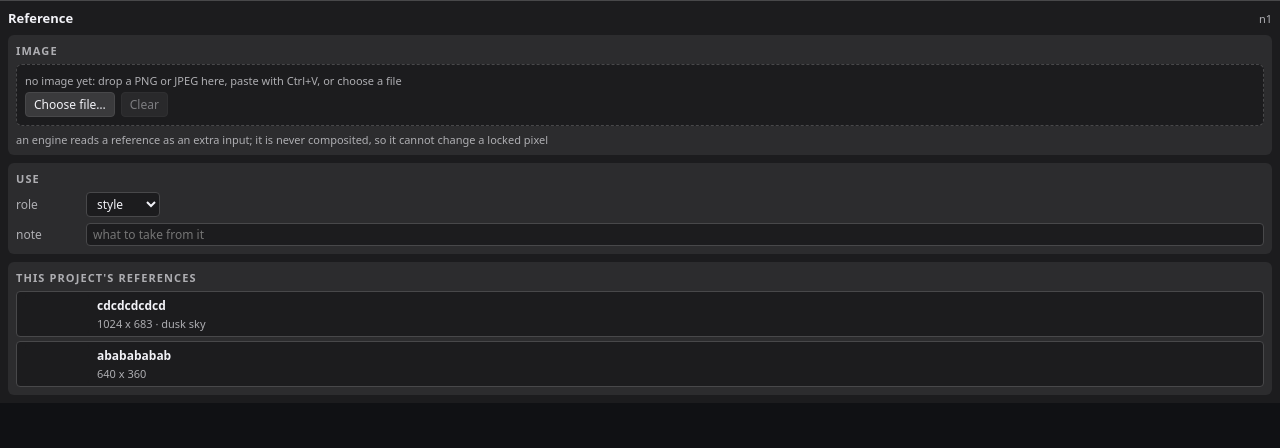
Scenario: ReferenceEditor › writes role and note, picks one of the project's references, and clears the image
Expected: the list with test id "reference-list" is shown, [16,291,1264,387]
Select "sky" in the dropdown with test id "reference-role" at (123, 204), box [86,192,160,217]
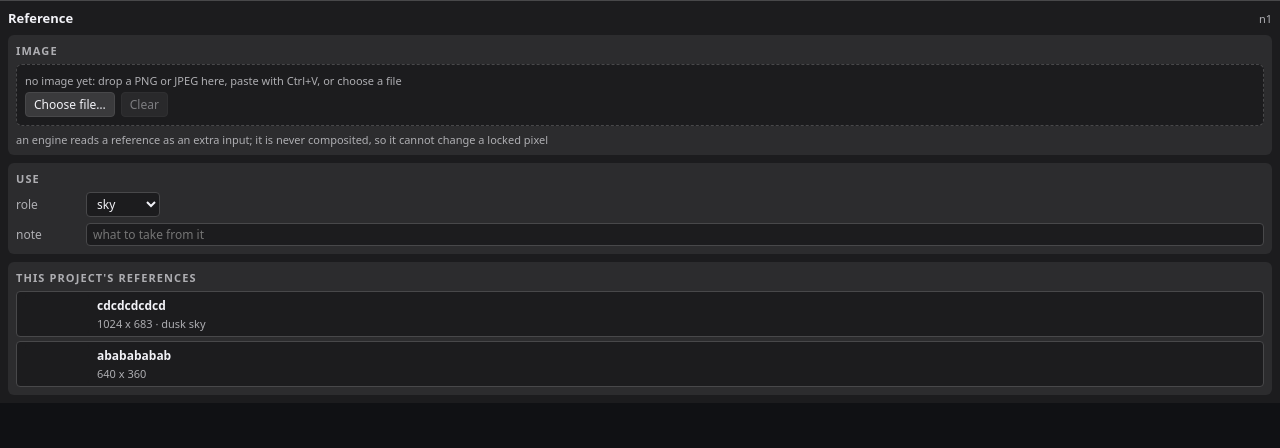
Type "take the cloud shape" into the field with test id "reference-note" at (675, 234), box [86,223,1264,246]
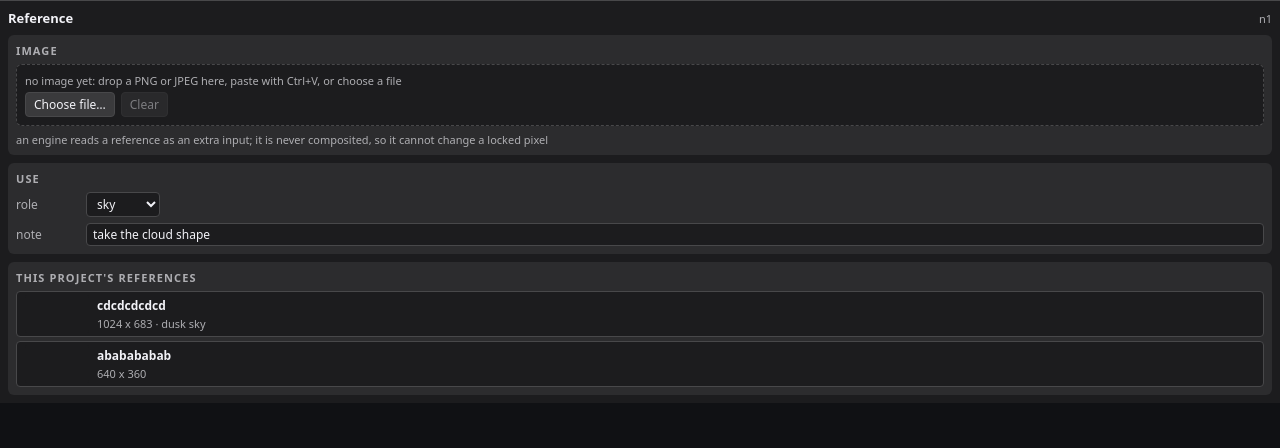
Clear the field with test id "reference-note" at (675, 234), box [86,223,1264,246]
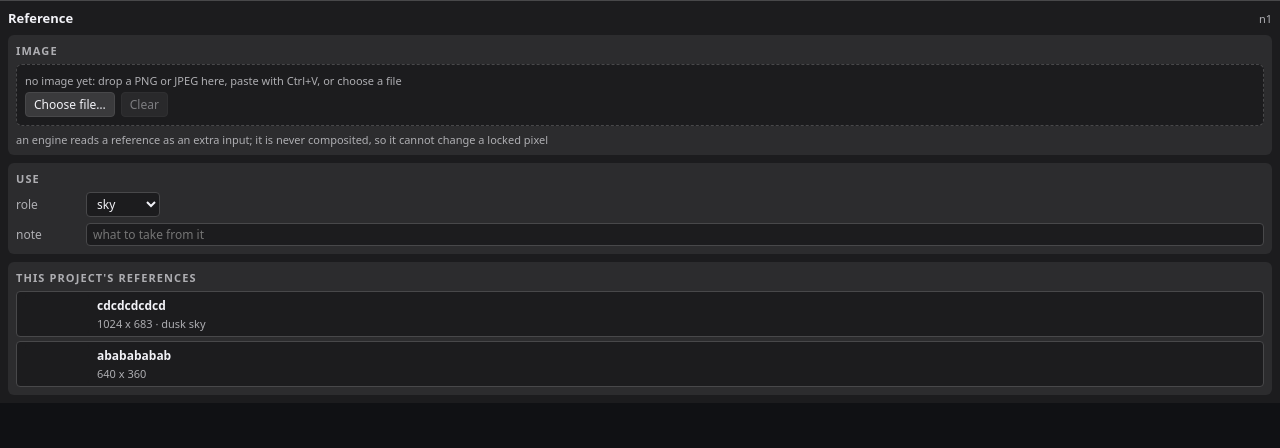
Click the button with test id "reference-pick-cdcdcdcd" at (57, 314), box [16,291,1264,337]
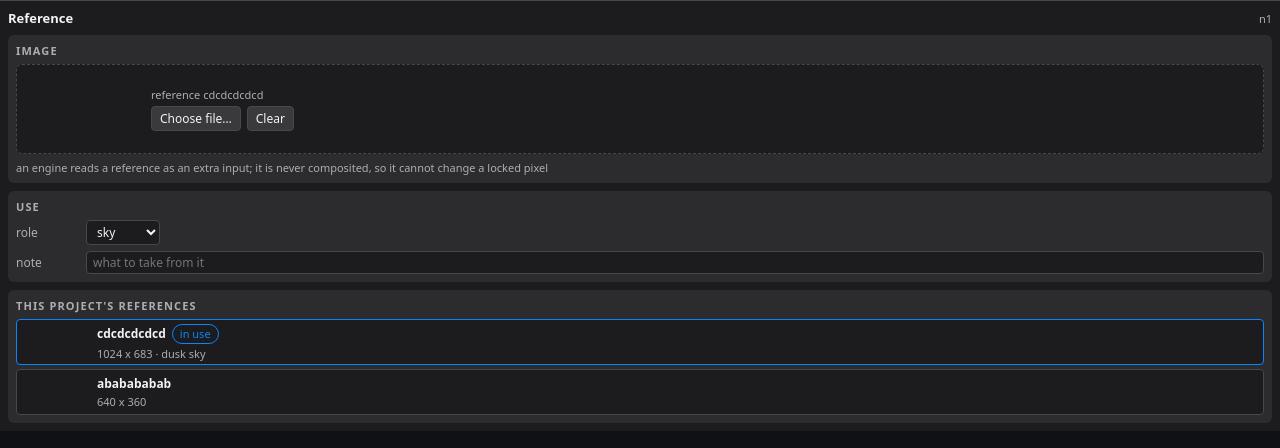
Result: the text with test id "reference-hash" reads "reference cdcdcdcdcd" at [151,87,263,102]
Click the button with test id "reference-clear" at (270, 118), box [247,106,294,131]
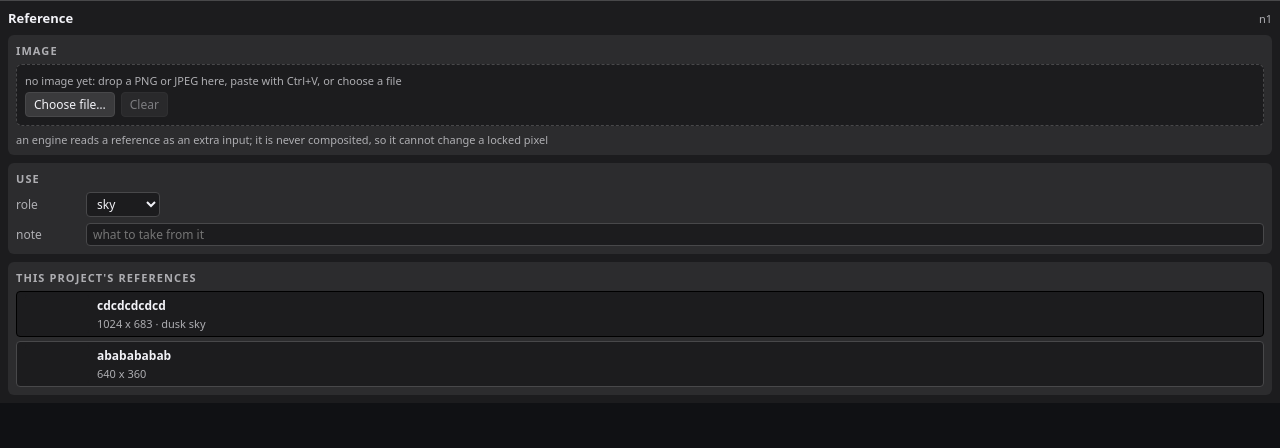
Result: the button with test id "reference-clear" is disabled at [121,92,168,117]
